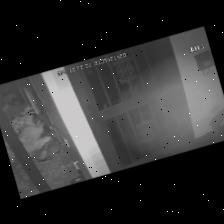person: (19, 114, 54, 161)
